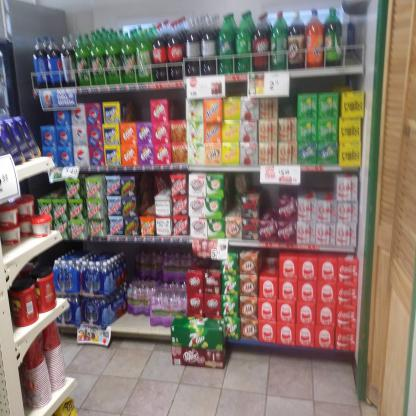Void: (343, 16, 362, 68), (292, 76, 365, 88), (128, 248, 156, 278), (302, 171, 336, 194), (119, 96, 150, 118), (225, 173, 242, 213), (136, 174, 154, 211), (170, 91, 185, 119), (122, 314, 148, 330), (262, 249, 280, 271), (43, 179, 62, 197), (282, 99, 298, 118), (227, 84, 245, 92), (43, 110, 53, 123)
